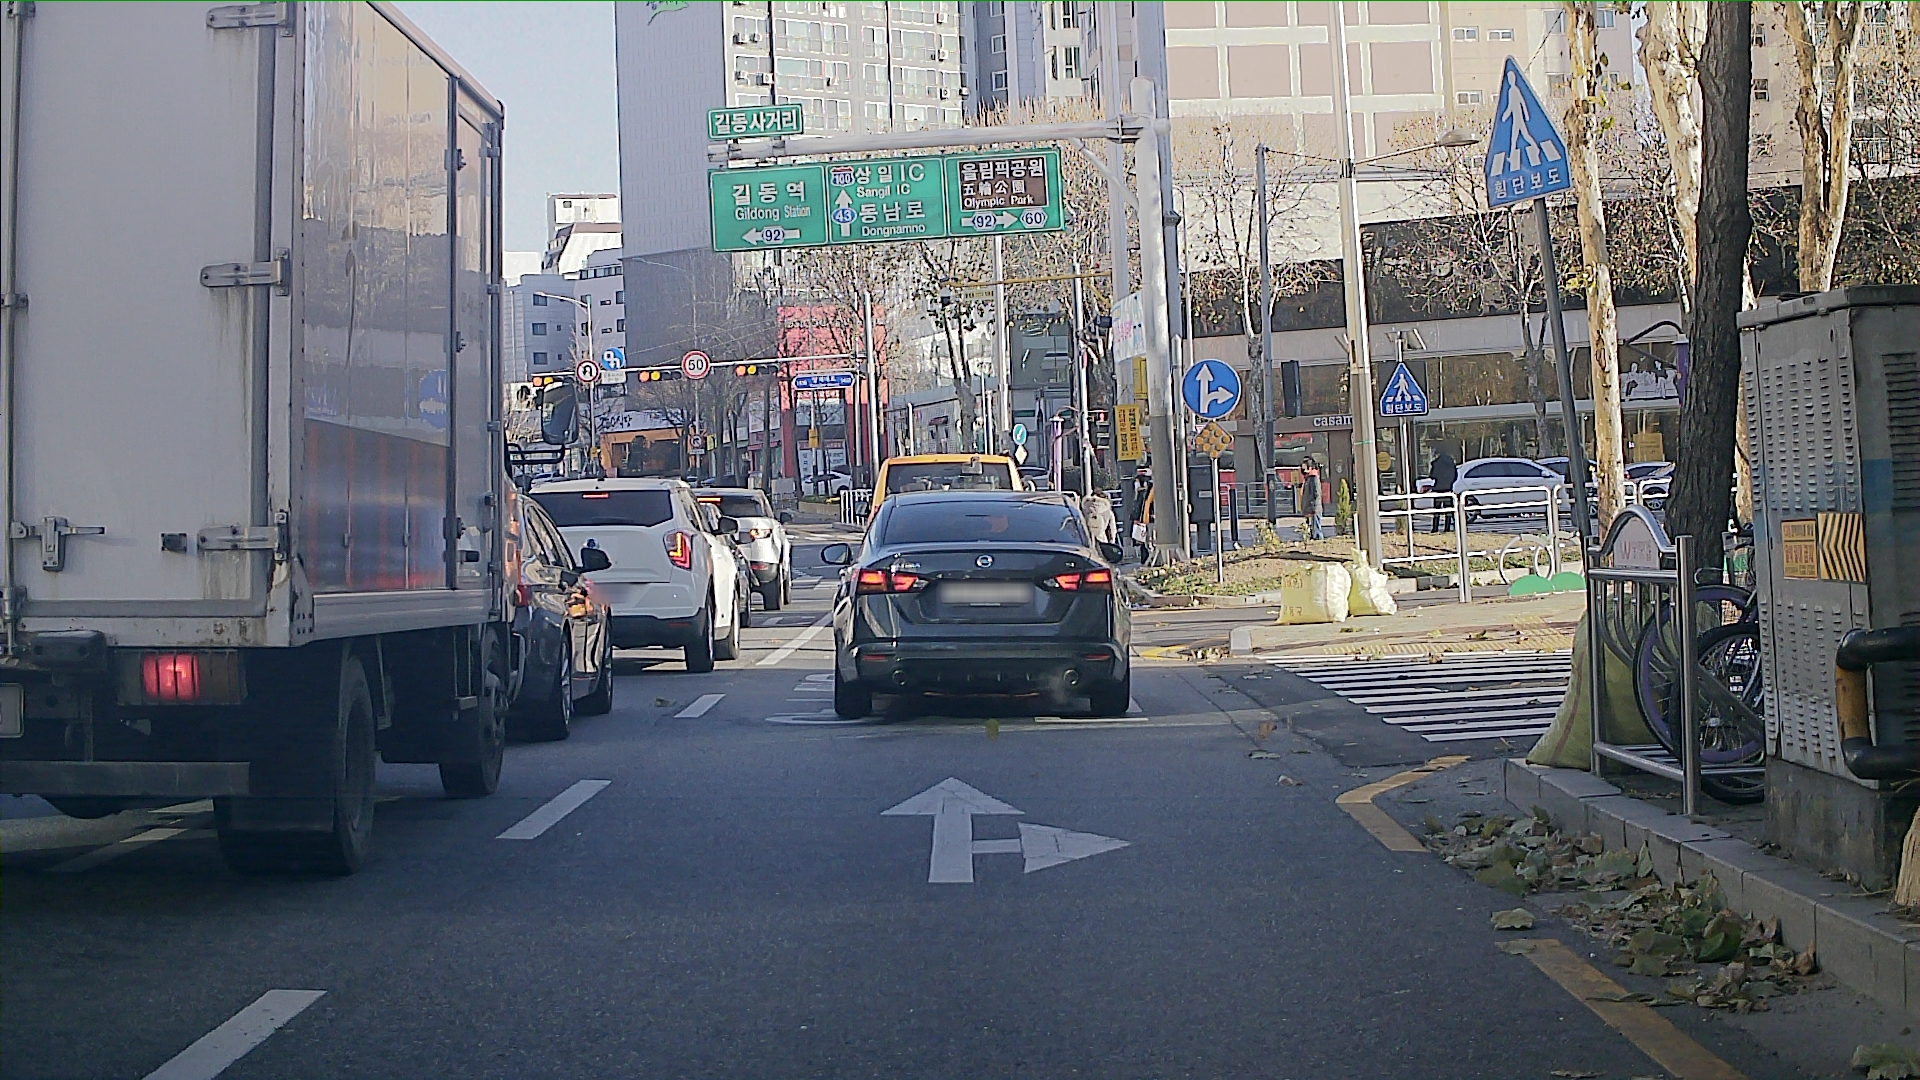trafficLight: (531, 371, 570, 389), (640, 367, 671, 382), (731, 363, 764, 376)
trafficSignCircle: (1183, 353, 1240, 418), (683, 351, 705, 378)
